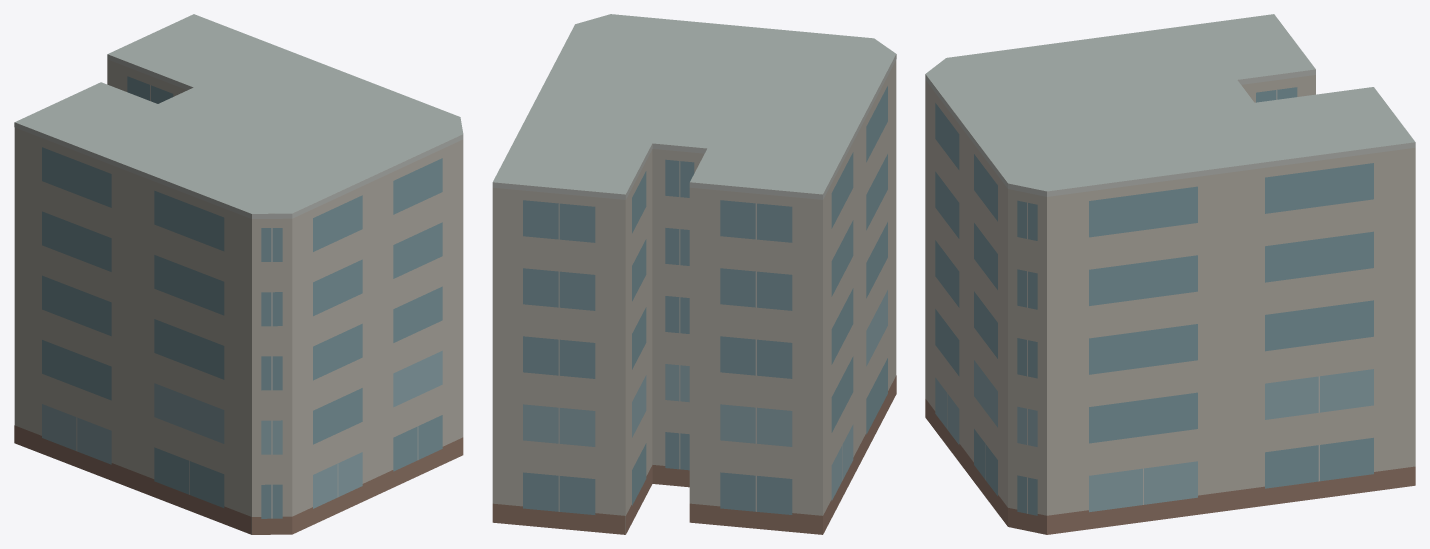
File: survey-upis-32619684.glb
The picture shows the model from 3 angles, left to right: view 1: azimuth 30°, elevation 25°; view 2: azimuth 150°, elevation 25°; view 3: azimuth 270°, elevation 25°; orthographic projection. The views are drawn at different scales.
Visible parts, largest first — view 1: survey-upis-32619684.tmp; view 2: survey-upis-32619684.tmp; view 3: survey-upis-32619684.tmp.
Boxes of the visible parts, bbox=[...] form: survey-upis-32619684.tmp: bbox=[14, 14, 463, 534]; survey-upis-32619684.tmp: bbox=[492, 14, 896, 534]; survey-upis-32619684.tmp: bbox=[925, 14, 1415, 534].
Size of the model in its own units: 16.85 by 15.2 by 19.68.
